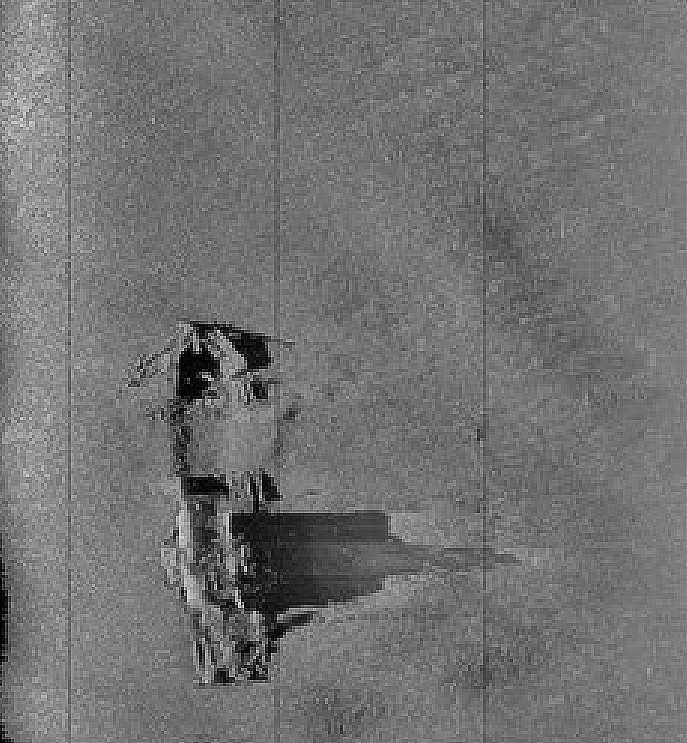ship: (125, 318, 311, 694)
